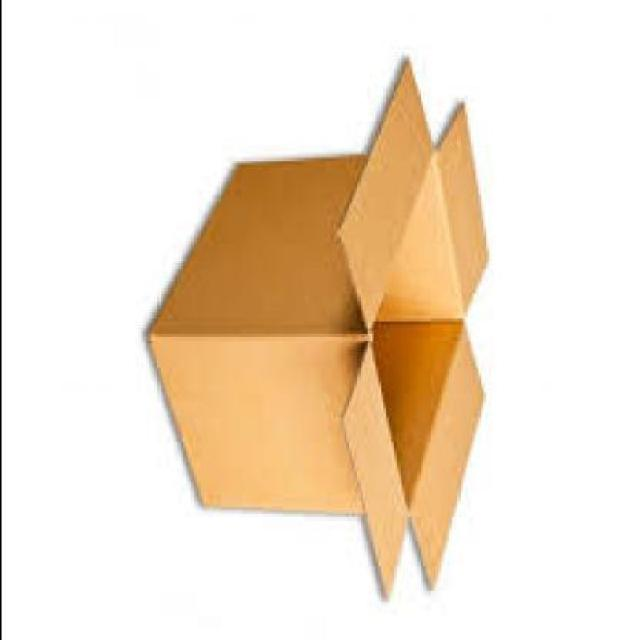CARDBOARD: (152, 62, 492, 603)
